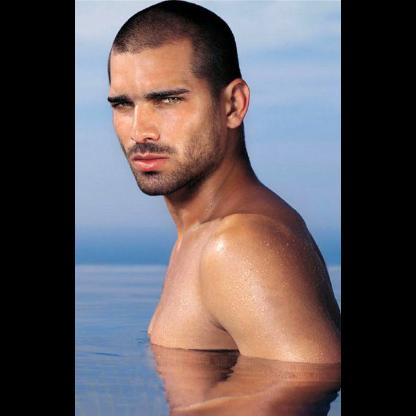Male: (107, 38, 251, 196)
